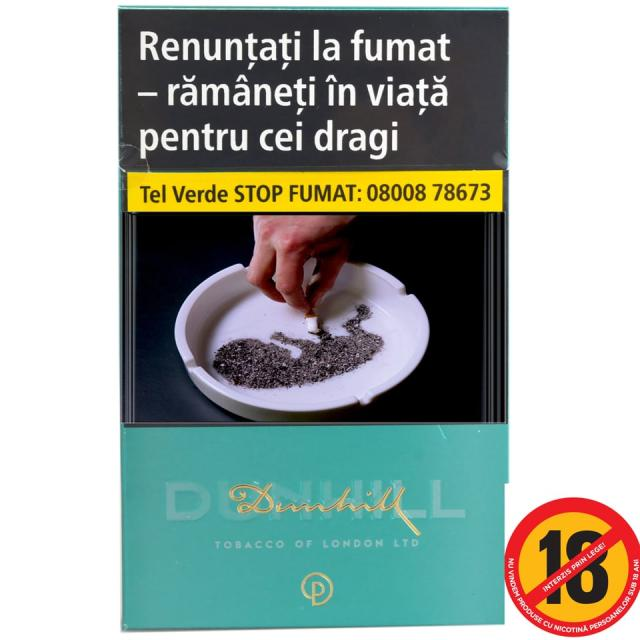dunhill: (115, 7, 509, 626)
